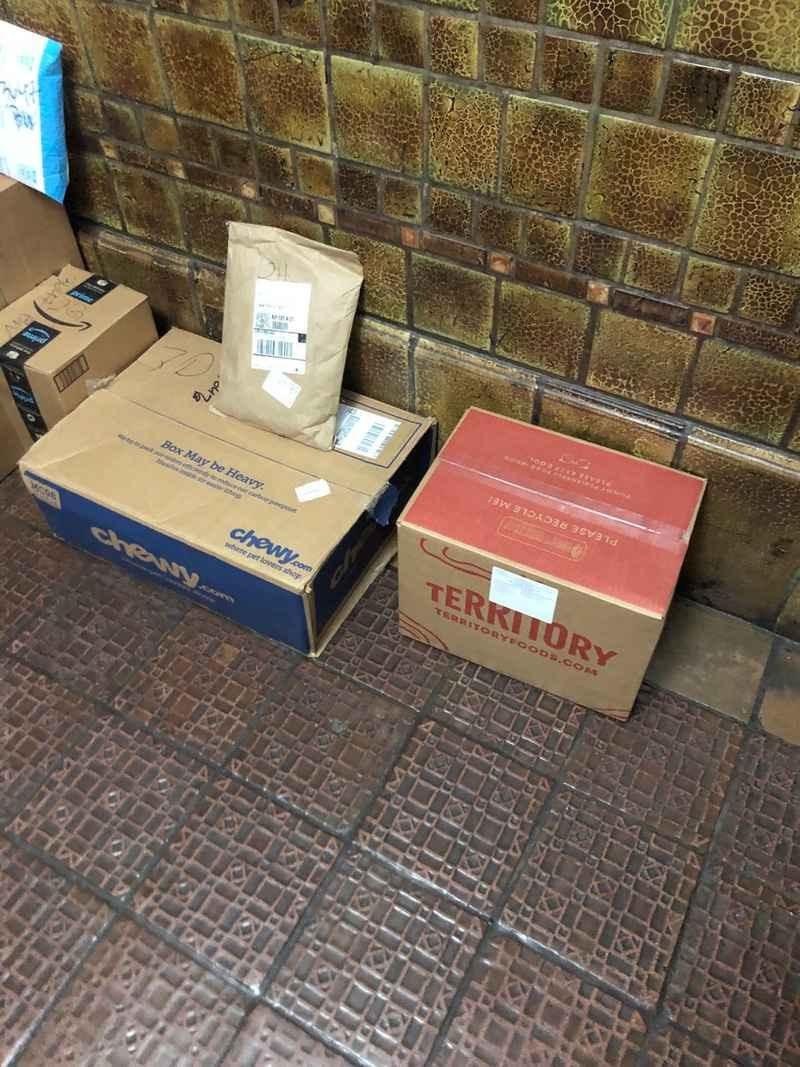package: (393, 401, 696, 729)
